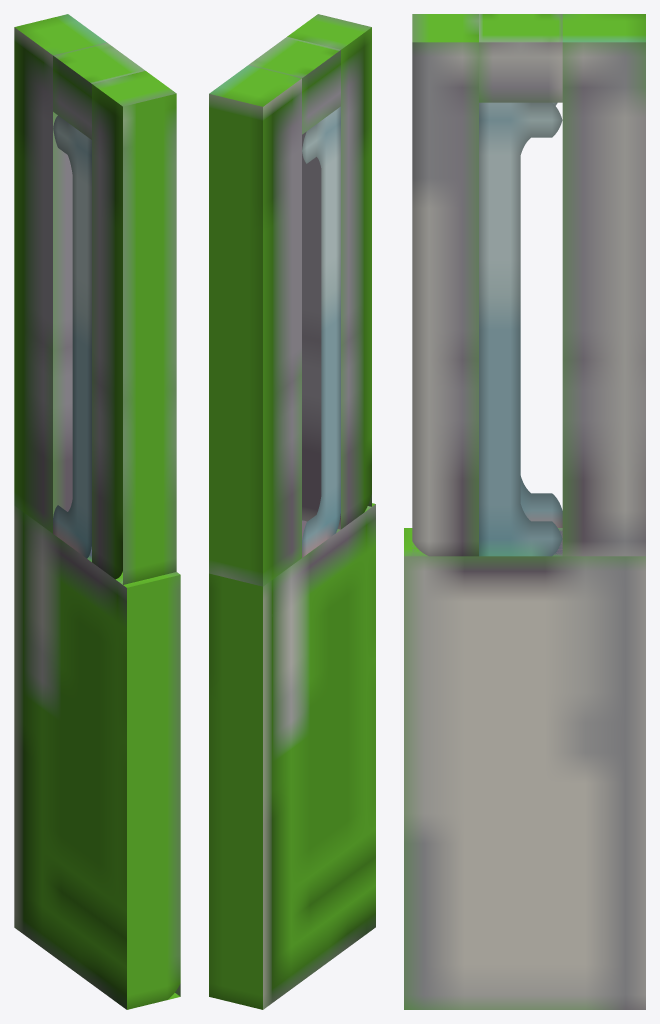
Rendered from end_face_door_lh.obj.
3 renders of one model, left to right at view 1: azimuth 30°, elevation 25°; view 2: azimuth 150°, elevation 25°; view 3: azimuth 270°, elevation 25°, orthographic. The views are drawn at different scales.
Parts seen in each view (by area): view 1: cube; view 2: cube; view 3: cube.
Boxes of the visible parts, x1=… form: cube: x1=14, y1=14, x2=180, y2=1009; cube: x1=209, y1=14, x2=375, y2=1009; cube: x1=404, y1=14, x2=645, y2=1009.
Size of the model in its own units: 0.125 by 2 by 0.4531.
